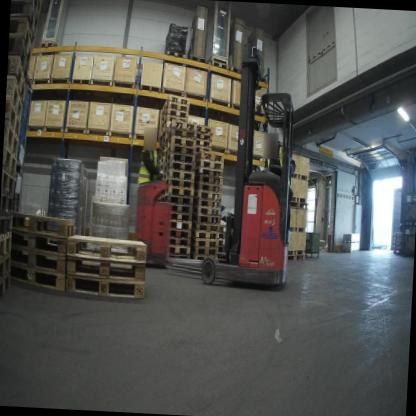forklift: (165, 31, 318, 293)
pallet: (66, 231, 147, 263), (63, 272, 146, 302), (7, 260, 66, 294), (65, 257, 148, 281), (12, 210, 77, 236), (9, 247, 71, 273), (8, 230, 72, 255), (8, 16, 34, 62), (12, 0, 37, 44), (6, 55, 29, 100), (8, 37, 30, 81), (5, 75, 26, 121), (157, 114, 189, 139), (160, 93, 191, 116), (158, 101, 189, 124), (3, 123, 22, 160), (158, 108, 190, 129), (5, 102, 23, 138), (163, 134, 196, 153), (164, 128, 193, 149), (163, 147, 195, 165), (161, 168, 193, 182), (0, 272, 15, 301), (3, 146, 17, 177), (166, 120, 197, 134), (39, 39, 61, 58), (163, 154, 195, 167), (160, 196, 194, 208), (163, 179, 194, 192), (0, 252, 11, 288), (0, 212, 13, 241), (1, 169, 14, 198), (12, 0, 41, 13), (190, 237, 219, 250), (0, 233, 13, 261), (195, 157, 223, 170), (192, 219, 219, 232), (192, 189, 221, 201), (0, 189, 15, 212), (163, 186, 193, 197), (191, 151, 224, 161), (193, 172, 223, 183), (191, 204, 220, 215), (163, 160, 192, 170), (285, 249, 307, 262), (166, 246, 189, 258), (193, 213, 218, 224), (207, 57, 228, 70), (164, 49, 186, 61), (193, 181, 221, 190), (189, 254, 214, 264), (190, 230, 217, 239), (171, 219, 191, 231), (191, 249, 218, 257), (288, 200, 309, 210), (185, 55, 206, 65), (171, 204, 192, 214), (194, 123, 212, 134), (169, 230, 191, 238), (194, 167, 223, 173), (192, 200, 220, 206), (170, 237, 189, 245), (155, 155, 166, 168), (171, 213, 191, 220), (157, 132, 168, 143), (195, 139, 210, 147), (156, 149, 165, 162), (193, 133, 212, 139), (156, 144, 165, 155), (158, 137, 166, 149), (191, 146, 209, 151), (217, 237, 227, 246), (391, 249, 401, 257), (216, 246, 226, 254), (393, 231, 404, 238), (219, 225, 227, 232), (219, 232, 228, 237), (393, 237, 403, 241), (394, 240, 402, 245), (394, 244, 401, 249)
pallet_truck: (121, 171, 179, 268)
stillage: (400, 189, 416, 226), (401, 227, 415, 257)
